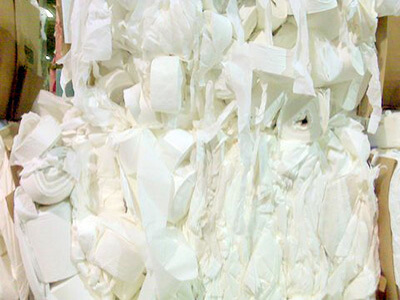Tissue: (146, 53, 187, 114)
